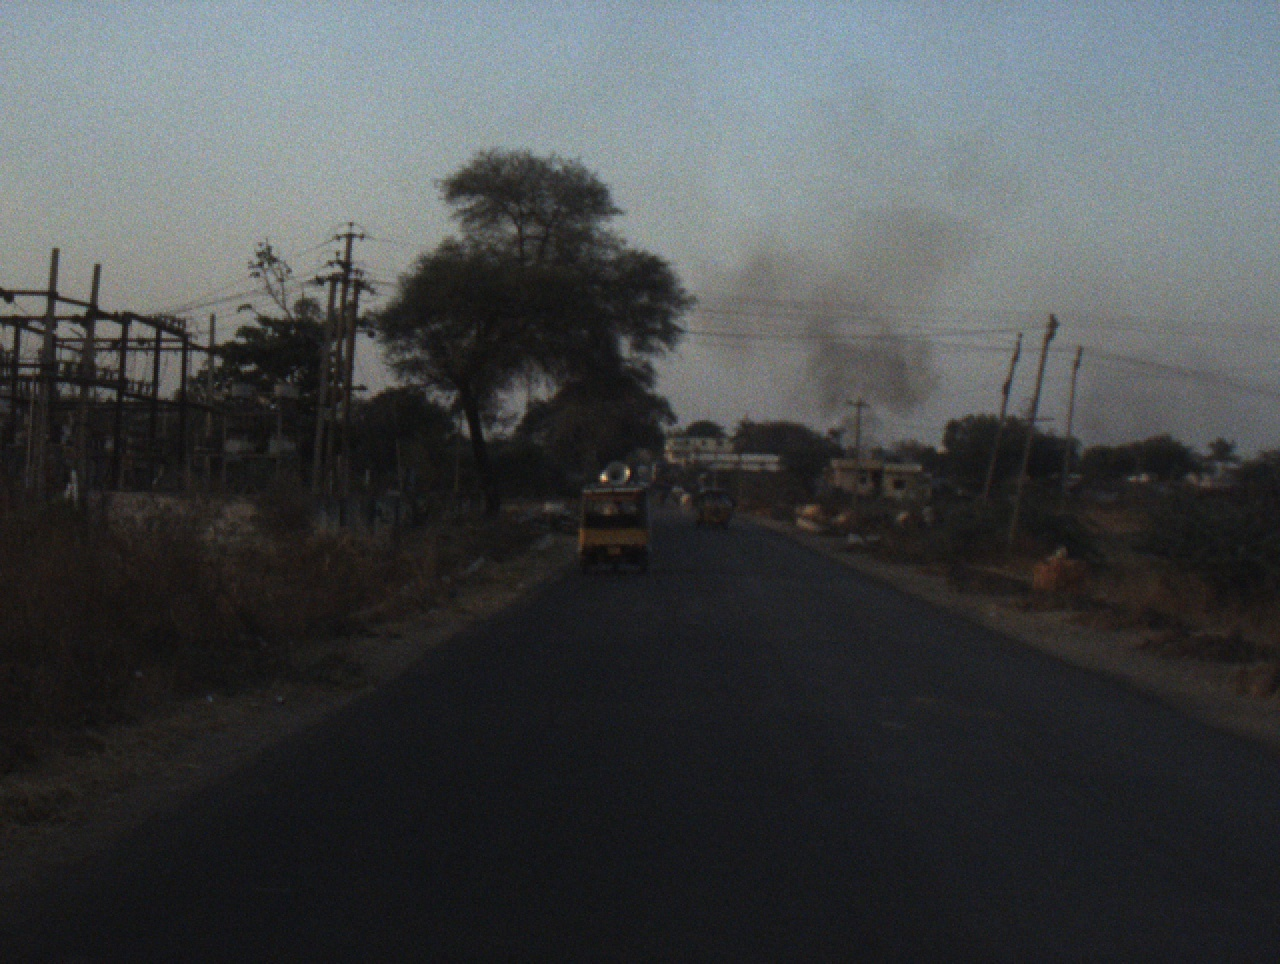autorickshaw: (571, 455, 658, 573), (691, 488, 737, 539)
motorcycle: (673, 491, 683, 504)
rider: (672, 482, 684, 501)
